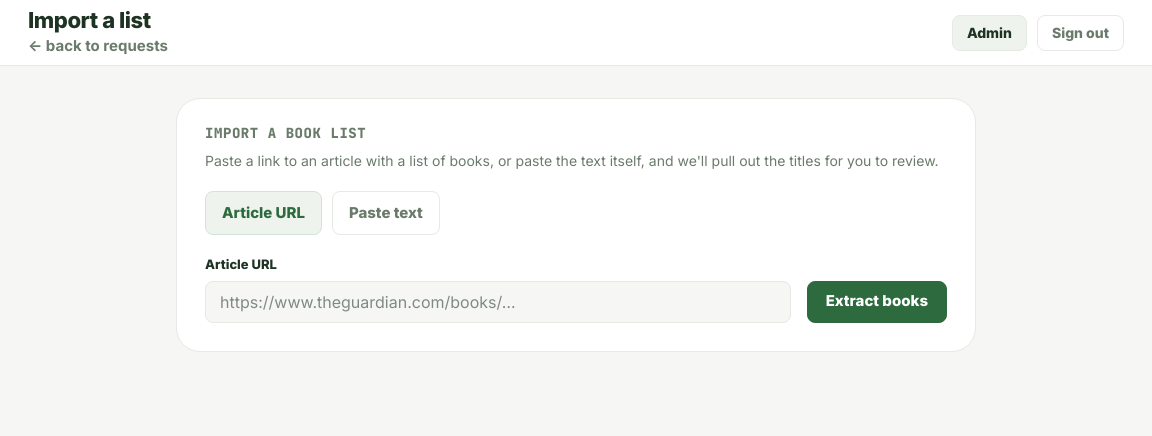
Test: ImportRoute — input stage › submits a URL and moves to review with the source title
The image size is (1152, 436).
Type "https://example.com/list" into the field labelled "Article URL". click: (498, 302)
box: [205,280,791,322]
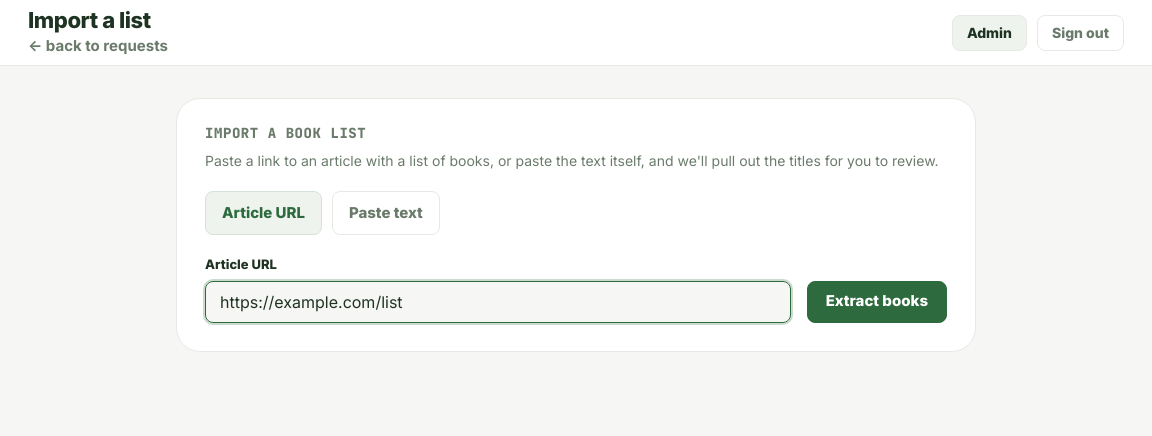
Click the button "Extract books". click: (877, 302)
box: [807,280,947,322]
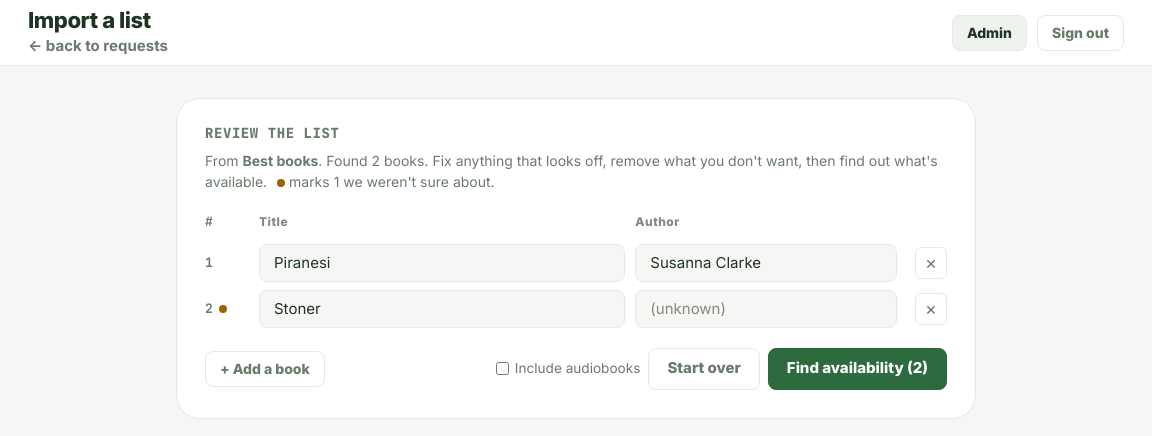
Expected: the element with test id "import-review" is shown, [176,98,976,418]
Expected: the element with test id "import-review" shows "Best books", [242,152,318,169]
Expected: the number of rows with test id "review-row" is 2, [205,244,947,282]; [205,290,947,328]
